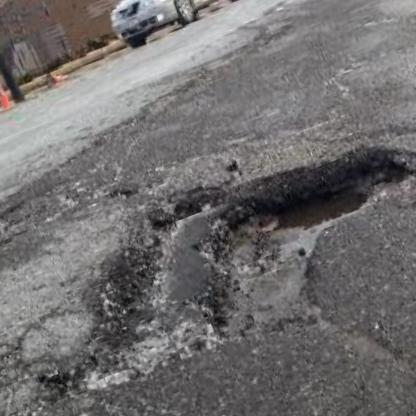pothole: (31, 109, 416, 400), (0, 199, 35, 278)
